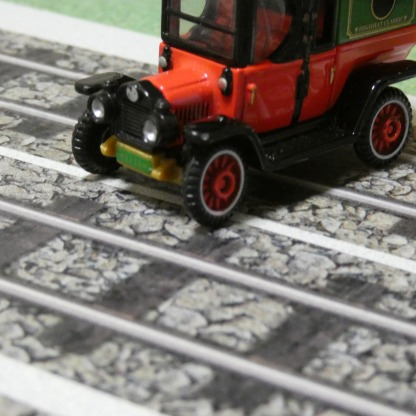car: (80, 0, 416, 224)
